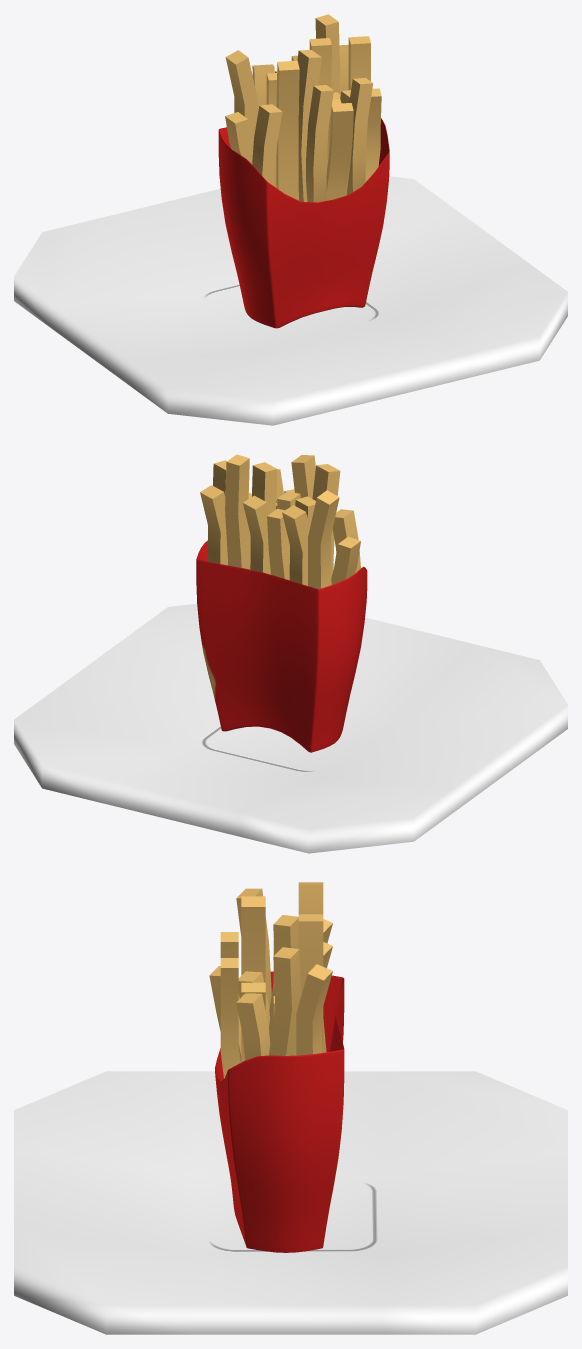
The model's file is friesPlate.fbx.
3 views of the same model, one above another, from view 1: azimuth 30°, elevation 25°; view 2: azimuth 150°, elevation 25°; view 3: azimuth 270°, elevation 25° (orthographic). The views are drawn at different scales.
Parts seen in each view (by area): view 1: pCube4, pCube29; view 2: pCube4, pCube29; view 3: pCube4, pCube29.
Boxes of the visible parts, x1,y1,x2,y2 form: pCube4: [14, 176, 567, 425]; pCube29: [218, 14, 389, 328]; pCube4: [14, 603, 567, 853]; pCube29: [196, 454, 367, 752]; pCube4: [14, 1071, 567, 1334]; pCube29: [209, 882, 344, 1252].
Size of the model in its own units: 40.64 by 27.39 by 40.64.
